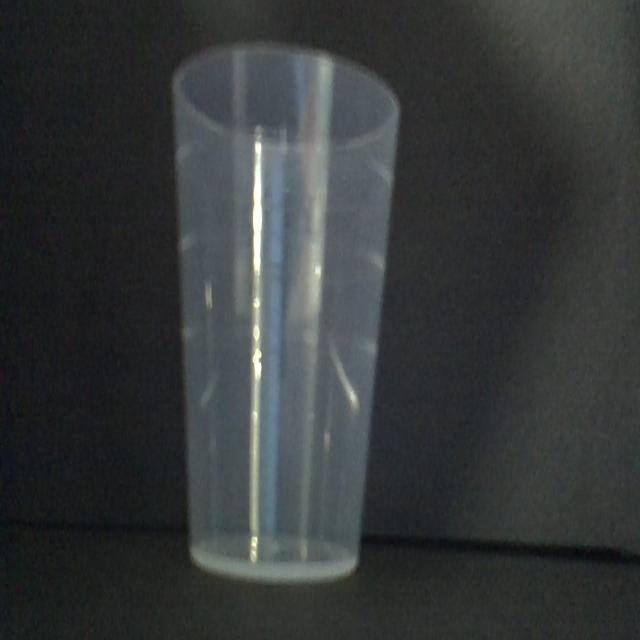cup: (166, 44, 400, 582)
